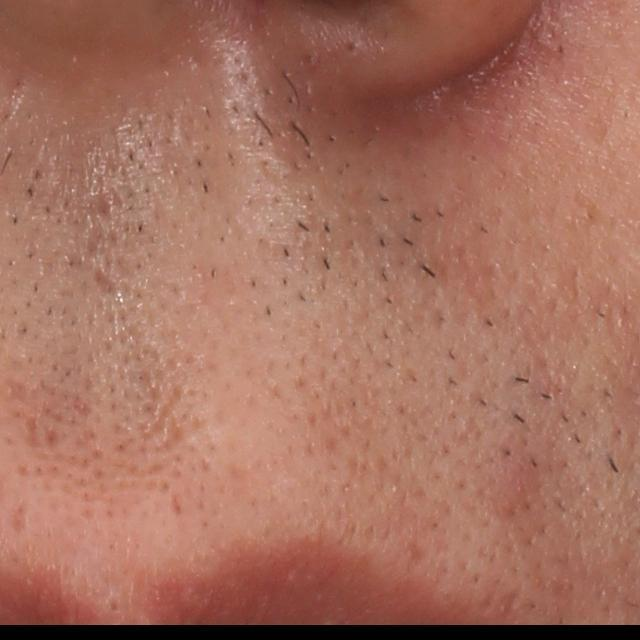atrophic_scar: (87, 264, 122, 298), (22, 408, 42, 456), (93, 195, 117, 233), (9, 501, 31, 533)
